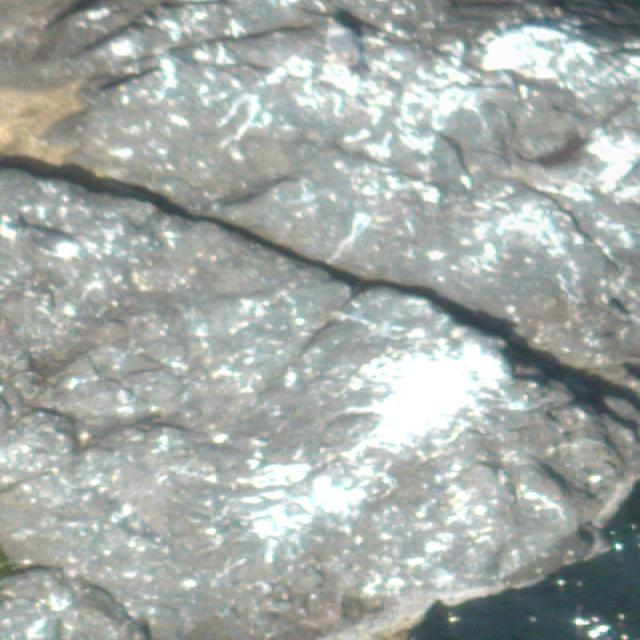umineko: (22, 228, 79, 259)
